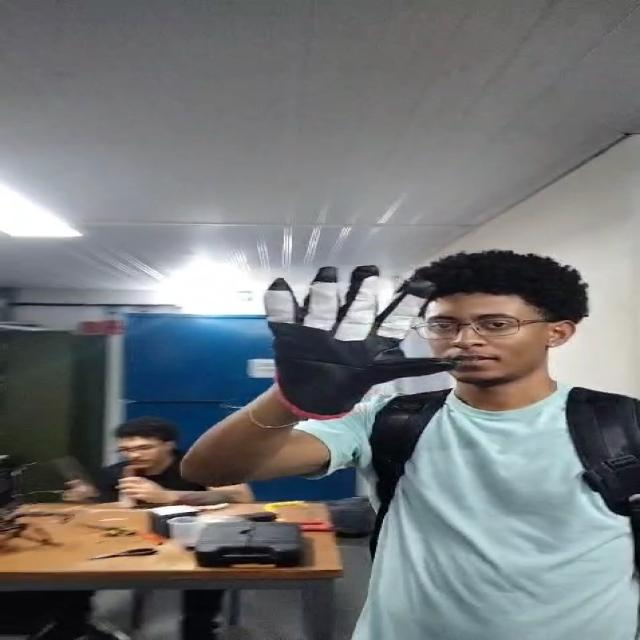Gloves: (254, 264, 448, 411)
